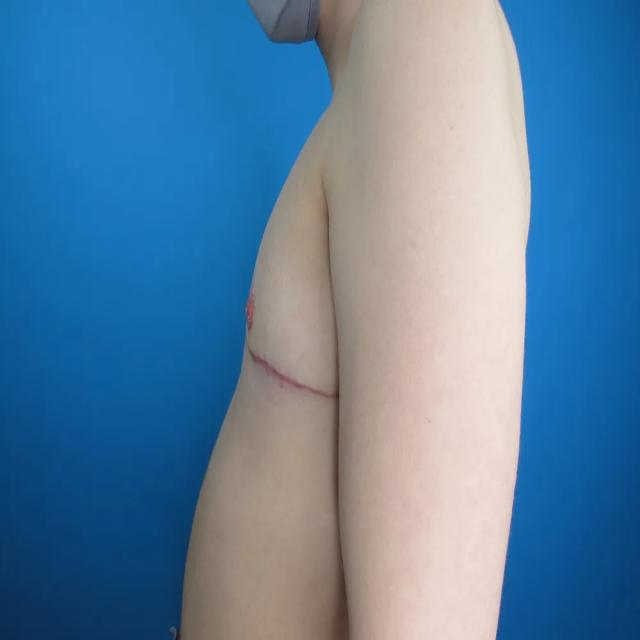Seno herido: (237, 147, 346, 429)
